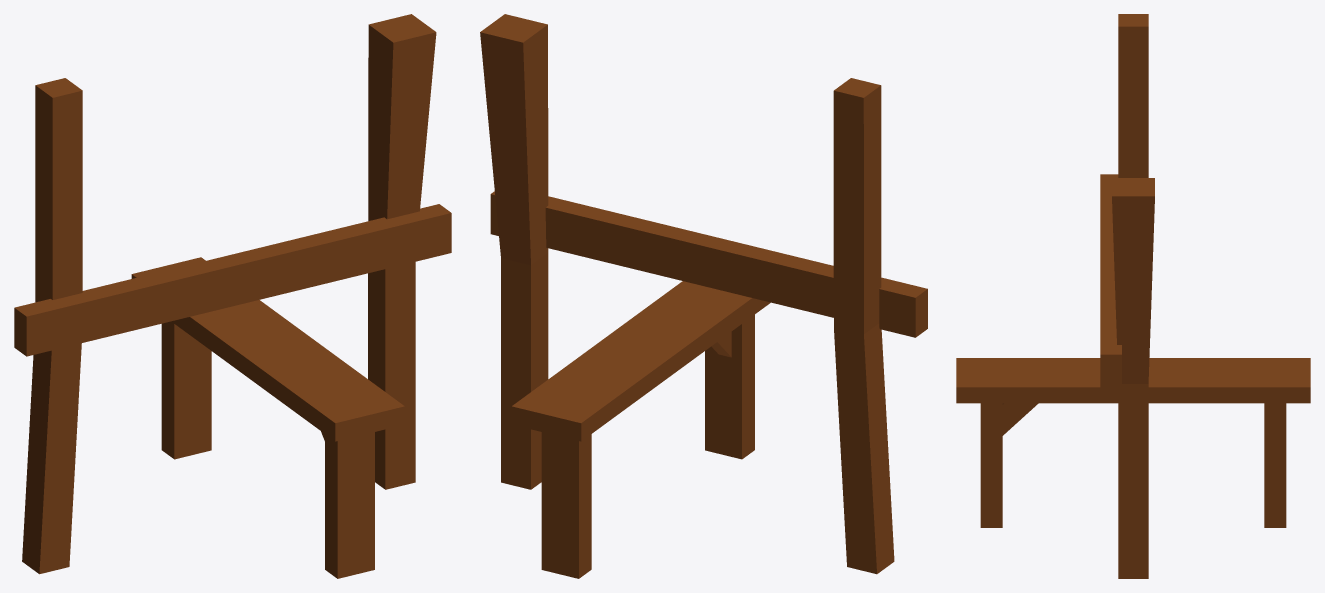
The model's file is StepFence1.fbx.
3 renders of one model, left to right at view 1: azimuth 30°, elevation 25°; view 2: azimuth 150°, elevation 25°; view 3: azimuth 270°, elevation 25°, orthographic. The views are drawn at different scales.
Parts seen in each view (by area): view 1: StepFence1; view 2: StepFence1; view 3: StepFence1.
Boxes of the visible parts, x1,y1,x2,y2 form: StepFence1: (14, 14, 451, 578); StepFence1: (480, 14, 927, 578); StepFence1: (956, 14, 1310, 578).
Bounding box in the file's own units: 113 × 121 × 94.13.
